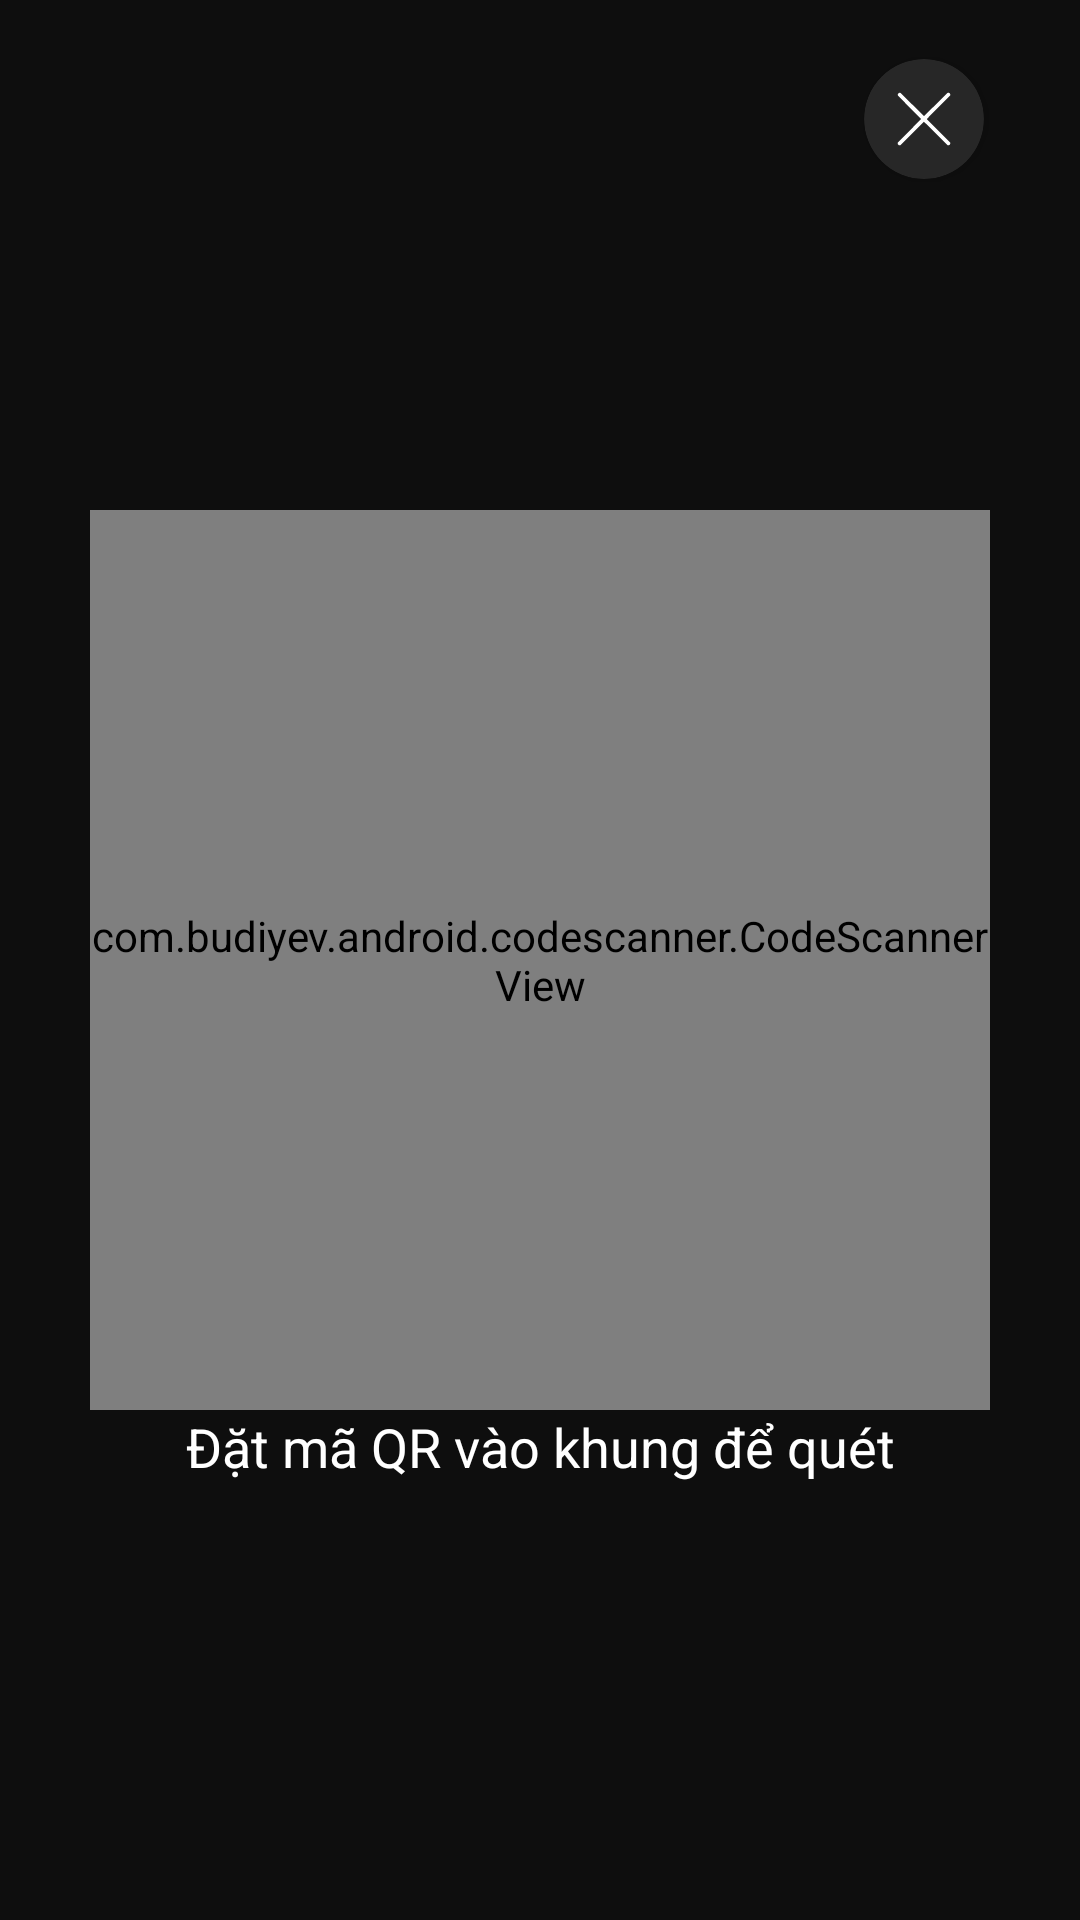

Where icons sit on this 1080 × 1920 app screen, as bbox=(x1, y1, x2, y2):
close: bbox=(897, 92, 951, 146)
